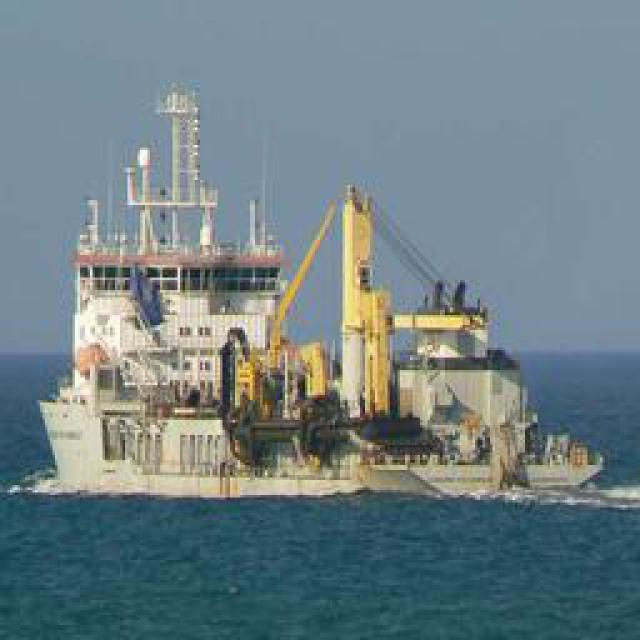Ship: (55, 154, 578, 504)
